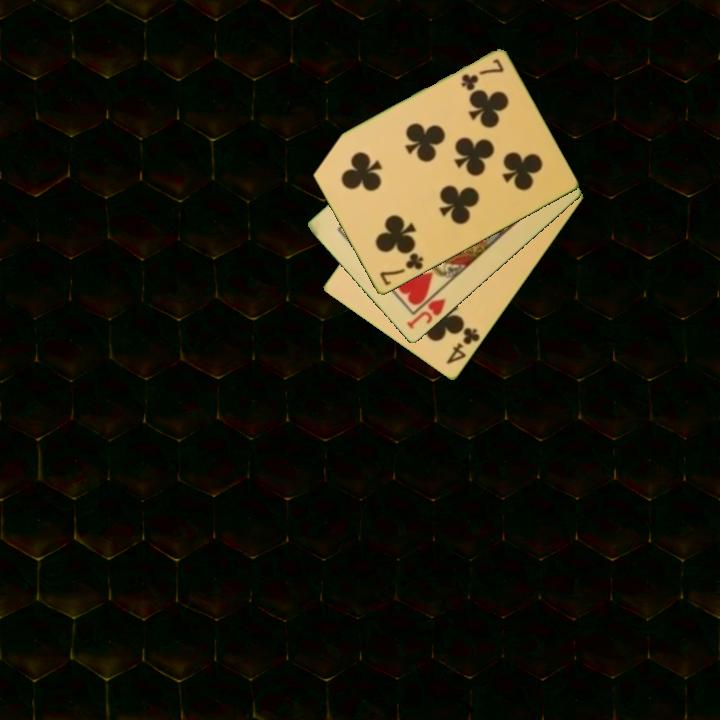4c: (443, 324, 483, 368)
7c: (376, 250, 426, 289), (457, 56, 507, 94)
Jh: (403, 295, 449, 333)
